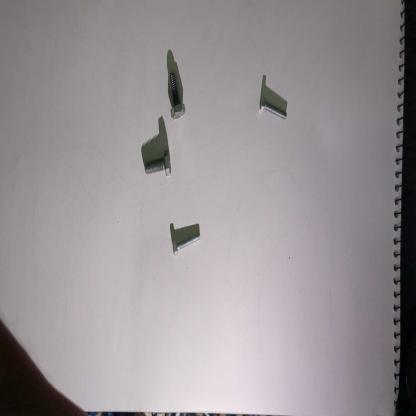Bolts: (167, 68, 187, 123), (258, 95, 290, 127), (141, 150, 176, 179), (170, 231, 206, 258)
